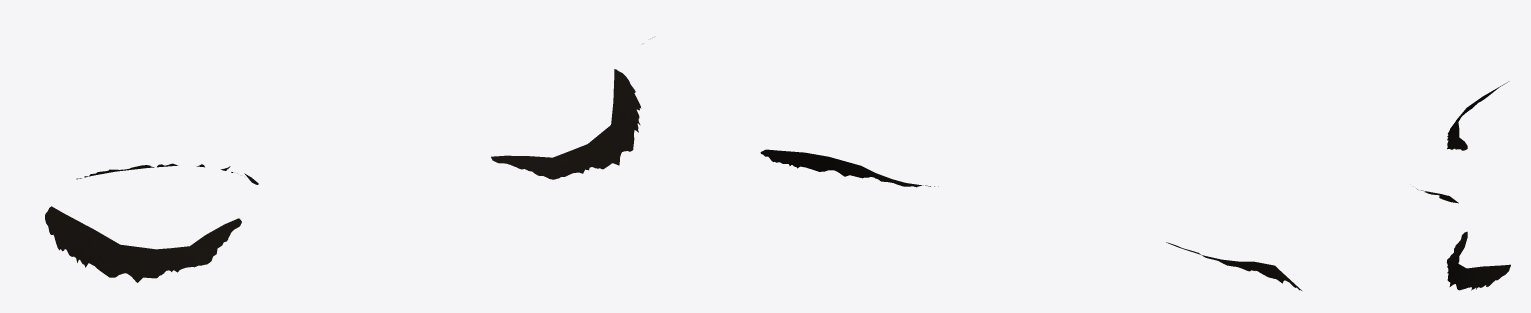
File: EyeLashes.fbx
The picture shows the model from 3 angles, left to right: view 1: azimuth 30°, elevation 25°; view 2: azimuth 150°, elevation 25°; view 3: azimuth 270°, elevation 25°; orthographic projection. The views are drawn at different scales.
Parts seen in each view (by area): view 1: Eyelashes; view 2: Eyelashes; view 3: Eyelashes.
Part boxes in pixels (left/top/right/bottom): Eyelashes: left=45, top=69, right=641, bottom=282; Eyelashes: left=760, top=149, right=1301, bottom=290; Eyelashes: left=1416, top=81, right=1510, bottom=290.
Size of the model in its own units: 4.34 by 1.03 by 1.05.
Materials: 1 (1 with a texture image).
